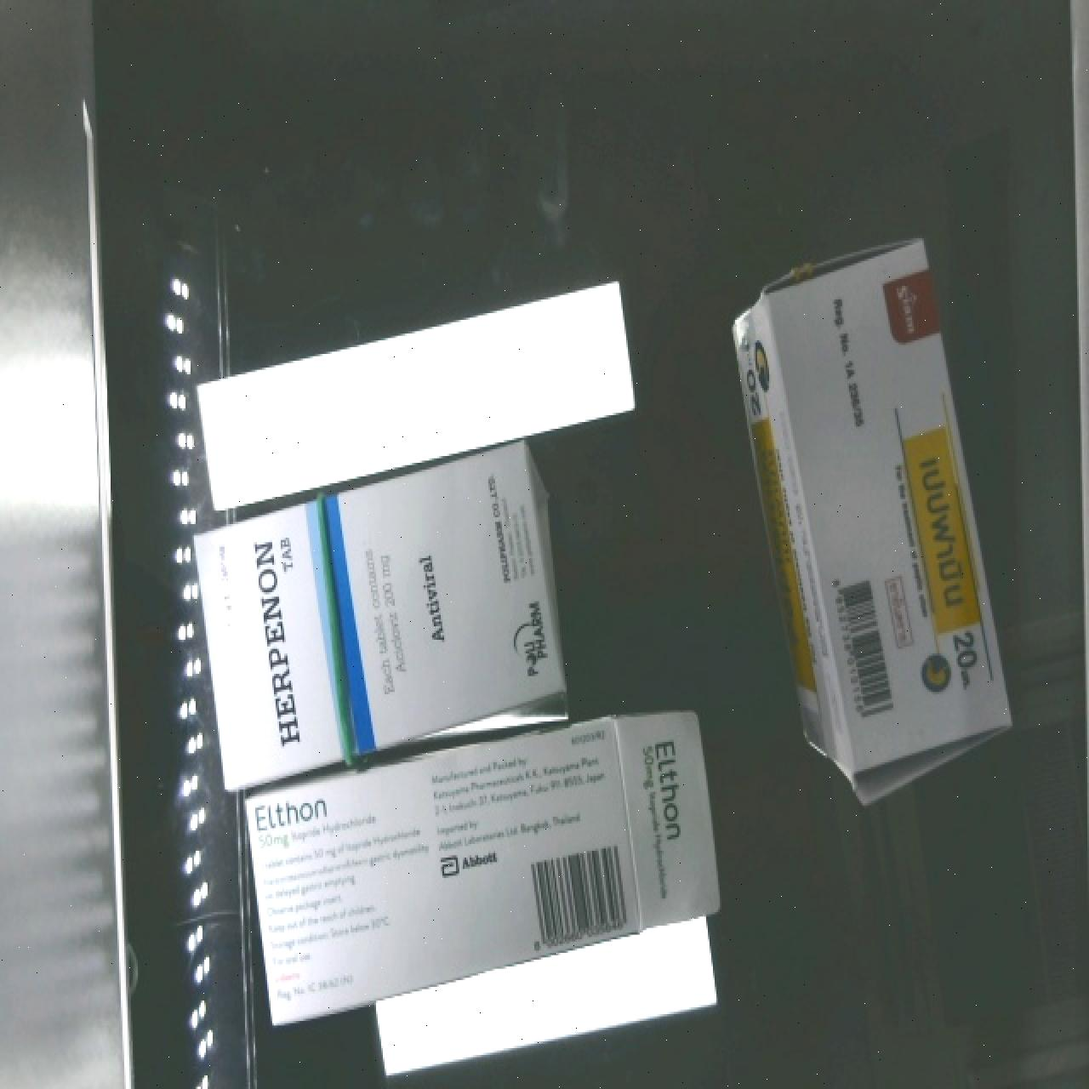medicine_label_obb: (895, 414, 1000, 710), (226, 505, 326, 775), (239, 776, 356, 851)
